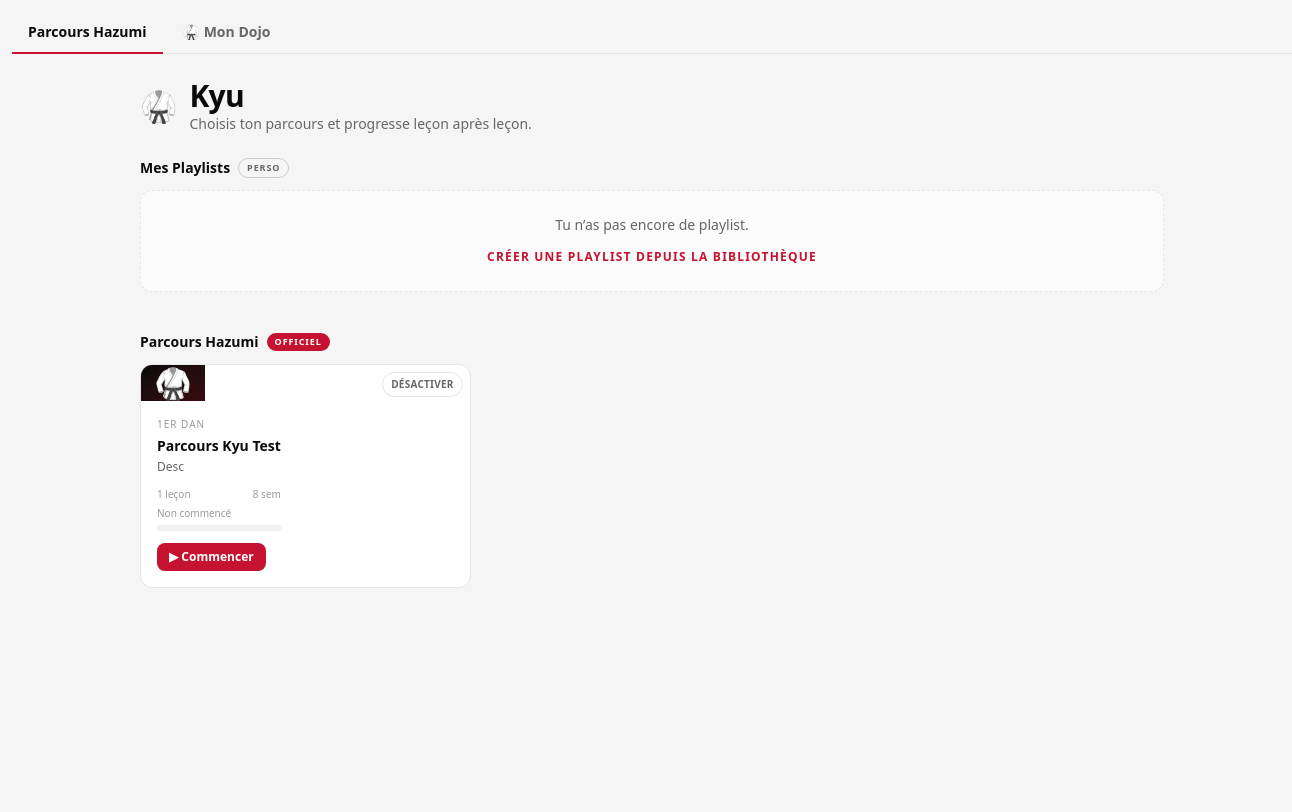
Test: Kyu — Parcours Hazumi + Mon Dojo (sans onglet Ma progression) › l’onglet Mon Dojo affiche la bibliothèque personnelle sans contenu Hazumi
Expected: the heading "Parcours Kyu Test" is shown, [157, 436, 281, 455]
Click the button "🥋 Mon Dojo" at (226, 33), box [167, 12, 286, 54]
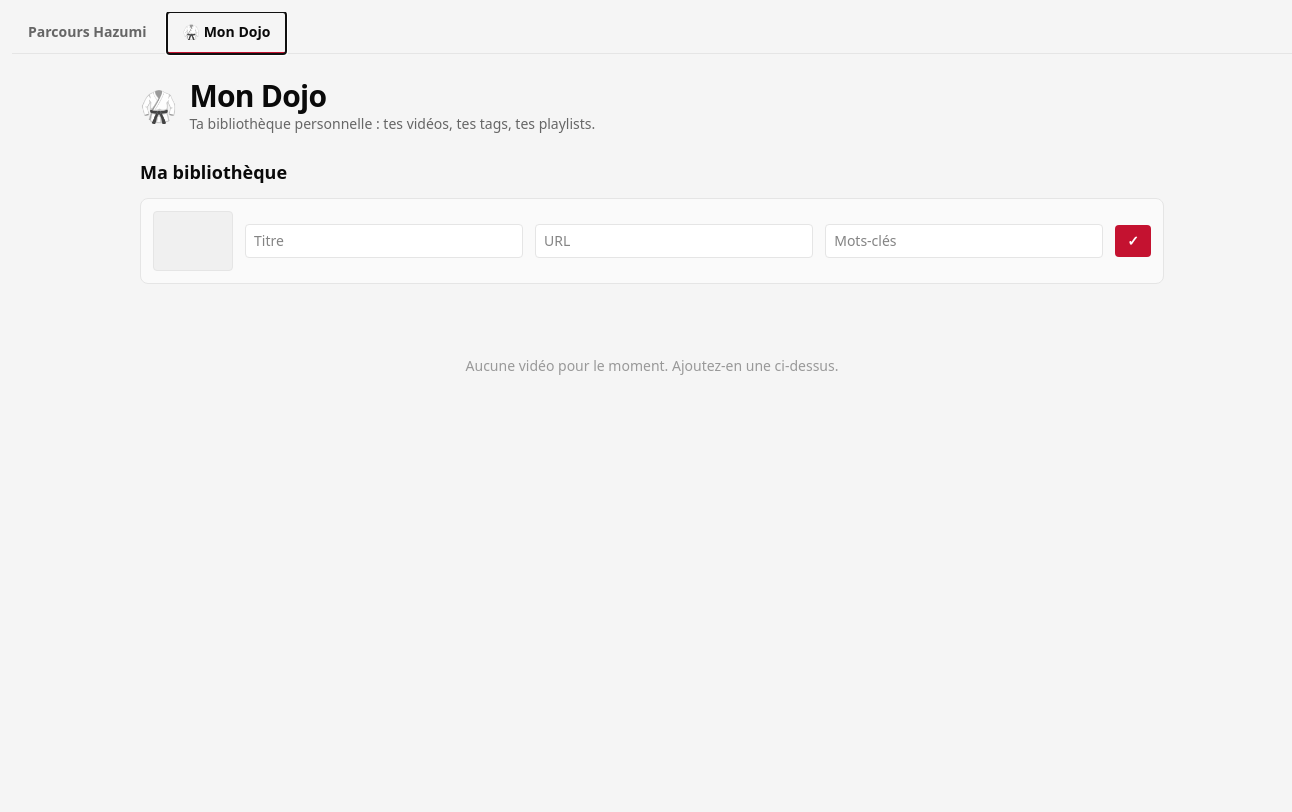
Now the field with placeholder "Titre" is shown, box [245, 224, 523, 258]
